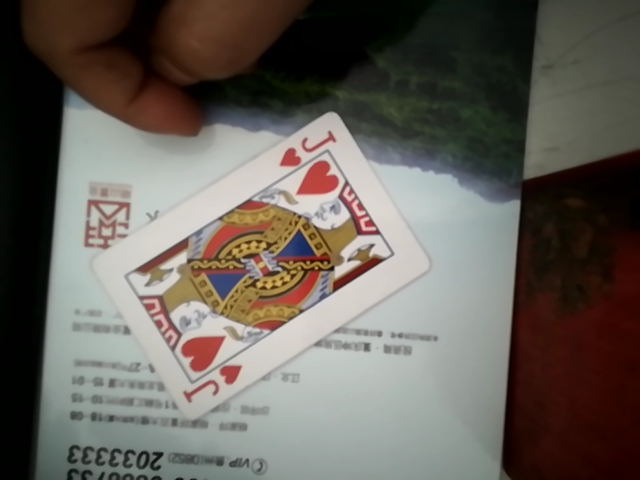hx j: (77, 102, 451, 414)
